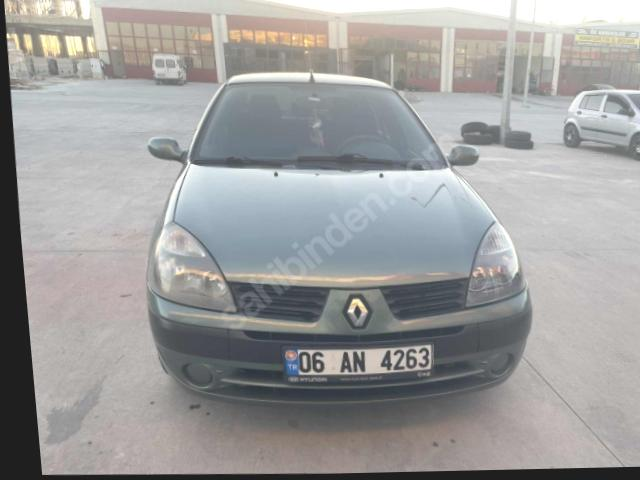plaka: (283, 344, 433, 382)
